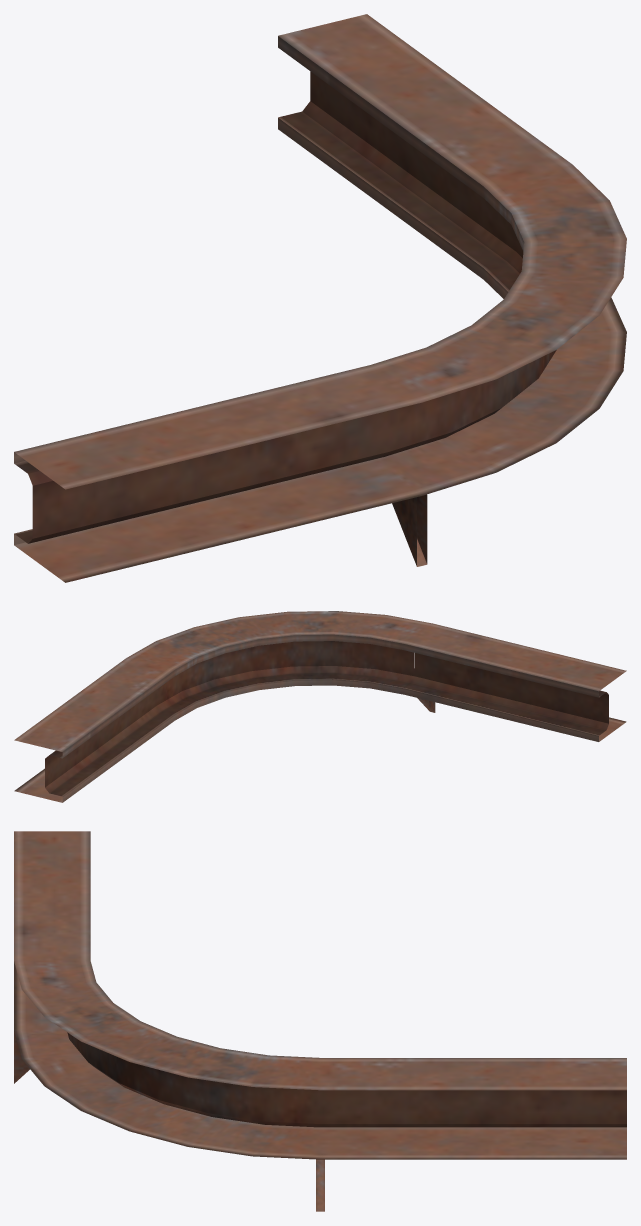
Rendered from pplant_welder_concave_short.dae.
3 renders of one model, top to bottom at view 1: azimuth 30°, elevation 25°; view 2: azimuth 150°, elevation 25°; view 3: azimuth 270°, elevation 25°, orthographic. The views are drawn at different scales.
Parts seen in each view (by area): view 1: welder_ceiling_concave_short; view 2: welder_ceiling_concave_short; view 3: welder_ceiling_concave_short.
Boxes of the visible parts, x1=… form: welder_ceiling_concave_short: x1=14, y1=14, x2=626, y2=582; welder_ceiling_concave_short: x1=14, y1=611, x2=626, y2=802; welder_ceiling_concave_short: x1=14, y1=831, x2=626, y2=1211.
Bounding box in the file's own units: 2 × 0.4375 × 2.
